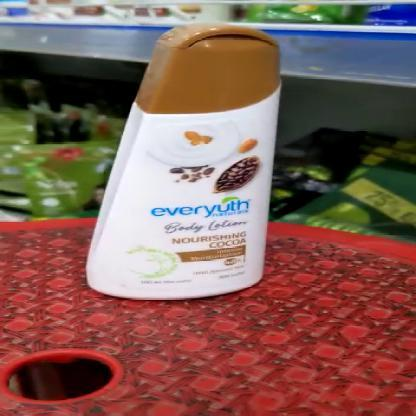Everyuth Naturals Body Lotion Nourishing Cocoa 200ml: (72, 26, 289, 304)
